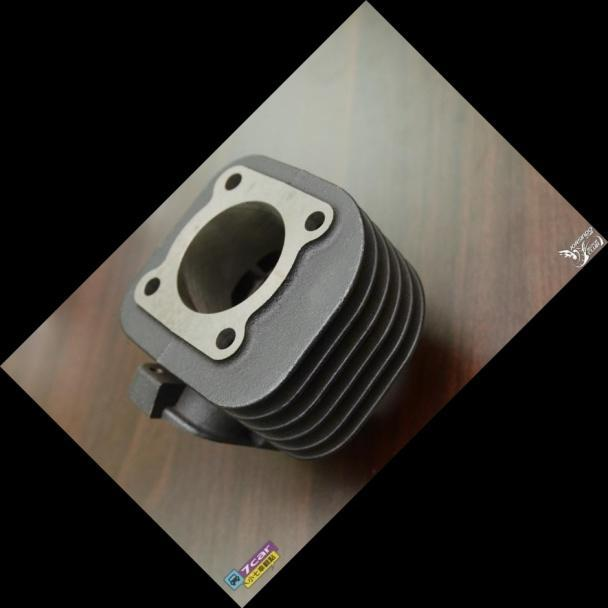hole: (205, 320, 241, 356), (297, 203, 332, 238)
